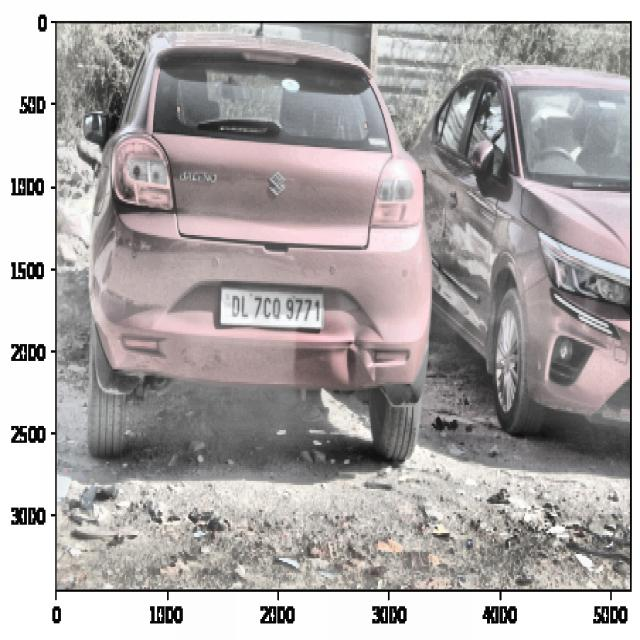license_plate: (228, 290, 325, 329)
